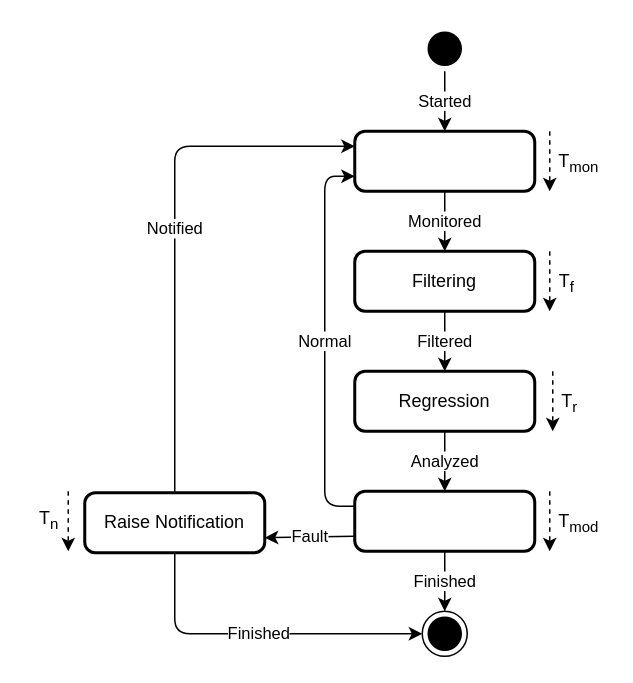
Image size: 633x683. Some labels were removed from this diagram. Each missing label, with the centre of its shape:
Monitor (Sub-) System Parameters: [444,160]
Statistical/Rule-based Modeling: [444,520]
